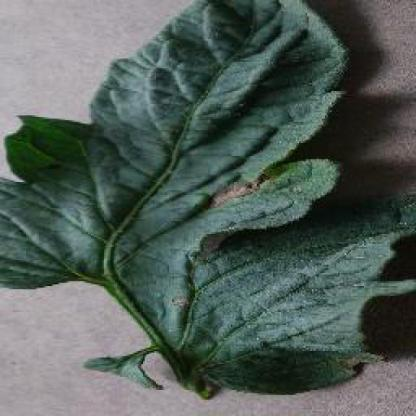Tomato_Blight: (2, 1, 416, 396)
